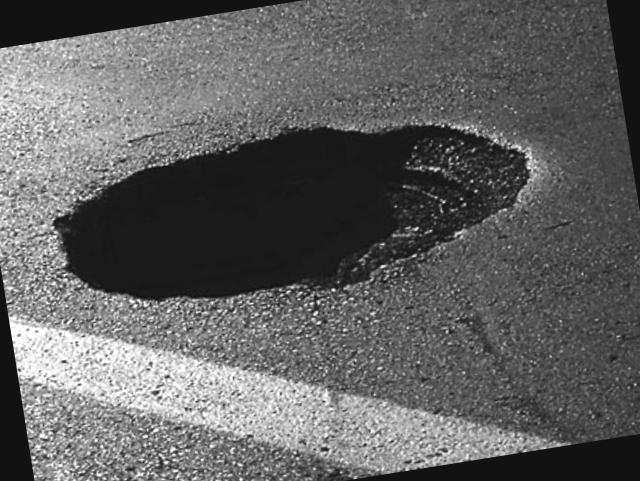Pothole: (24, 96, 546, 326)
